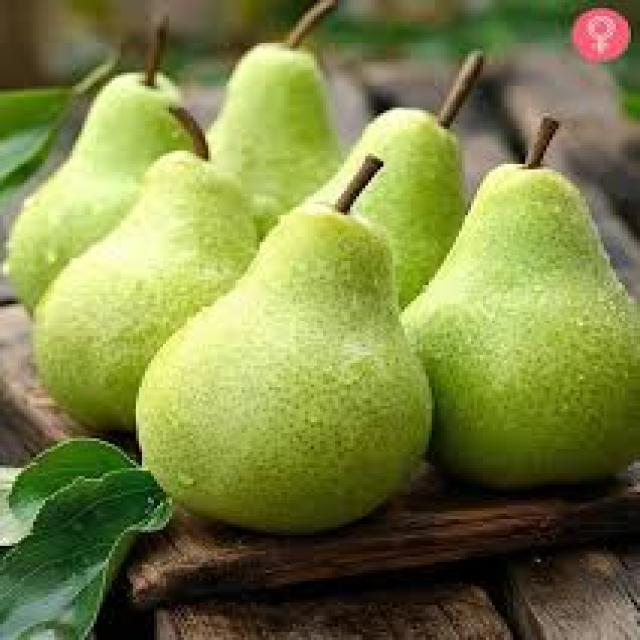pear: (139, 203, 437, 535), (391, 153, 640, 491), (33, 152, 299, 447), (8, 55, 200, 324), (300, 83, 479, 365), (185, 25, 359, 281)
